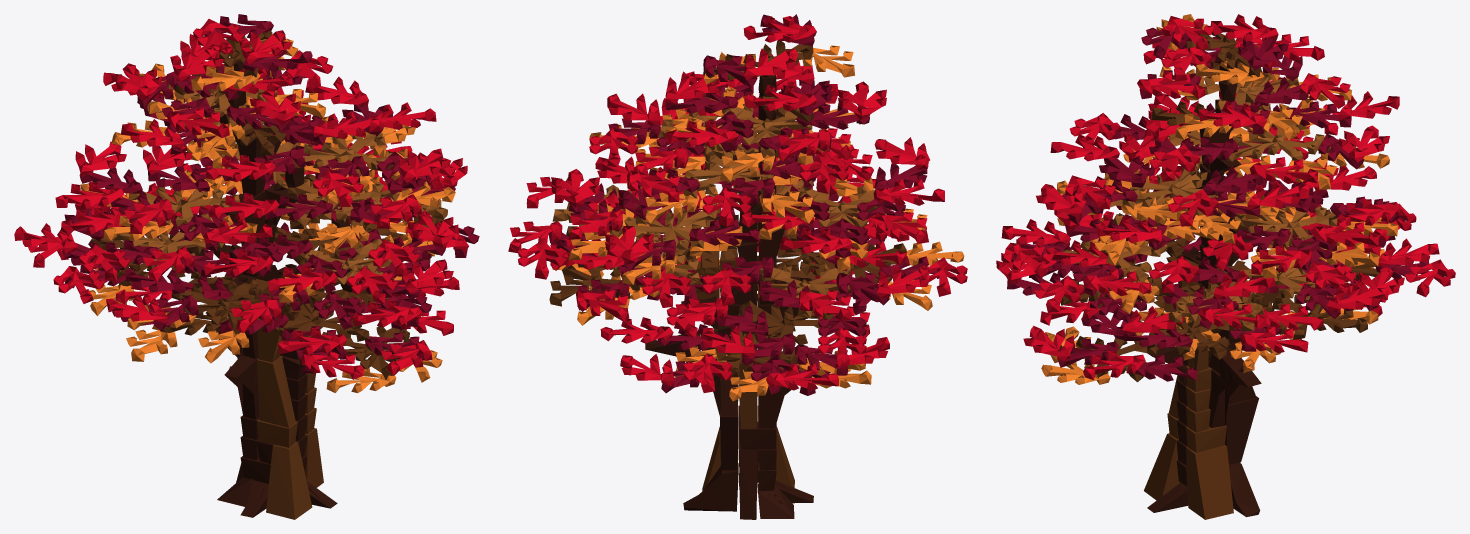
File: tree_lod2.fbx
The picture shows the model from 3 angles, left to right: view 1: azimuth 30°, elevation 25°; view 2: azimuth 150°, elevation 25°; view 3: azimuth 270°, elevation 25°; orthographic projection. The views are drawn at different scales.
Visible parts, largest first — view 1: Tree_LOD2; view 2: Tree_LOD2; view 3: Tree_LOD2.
Part boxes in pixels (x1,y1,x2,y2): Tree_LOD2: [14, 14, 479, 519]; Tree_LOD2: [508, 14, 967, 519]; Tree_LOD2: [996, 14, 1455, 519].
Size of the model in its own units: 495 by 549 by 496.
